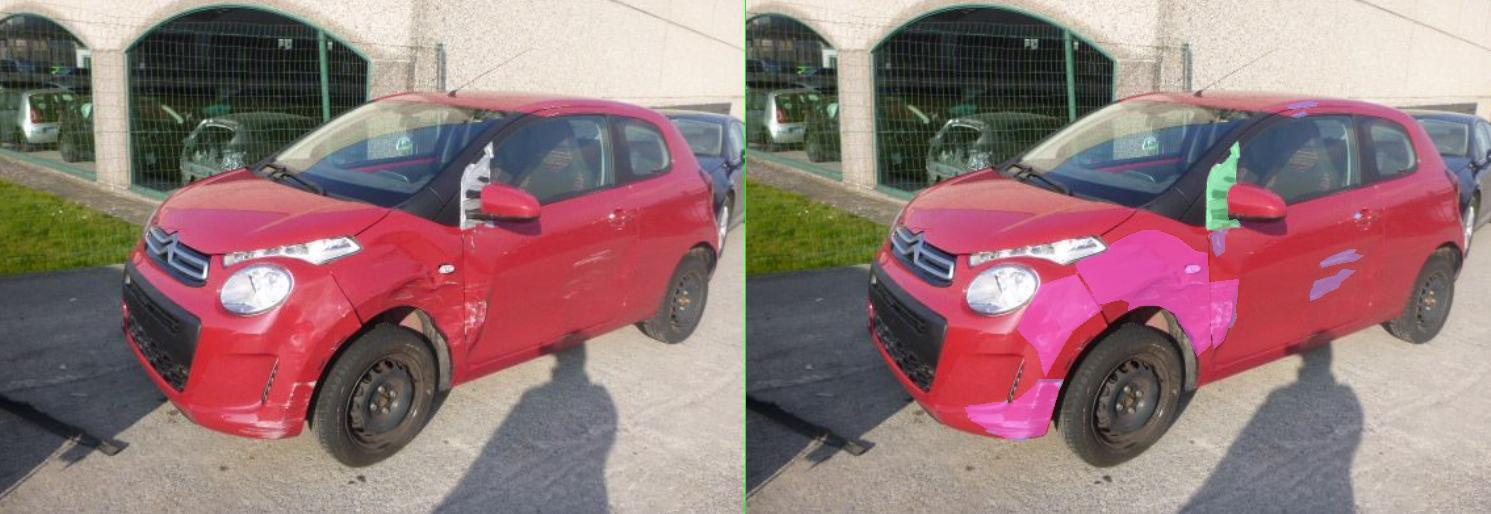Broken part: (921, 141, 989, 230)
Dent: (658, 230, 929, 356), (542, 274, 712, 376), (436, 381, 624, 438), (925, 279, 985, 348)
Scratch: (444, 413, 576, 440), (534, 379, 634, 411), (1129, 269, 1219, 300), (931, 297, 981, 335), (1149, 249, 1235, 267), (574, 397, 618, 422), (929, 229, 965, 256), (885, 322, 923, 346), (446, 400, 522, 411), (931, 280, 979, 292), (1083, 101, 1143, 108), (791, 291, 831, 301), (1091, 110, 1123, 117), (901, 303, 929, 310), (887, 279, 913, 286), (1215, 213, 1233, 218)
